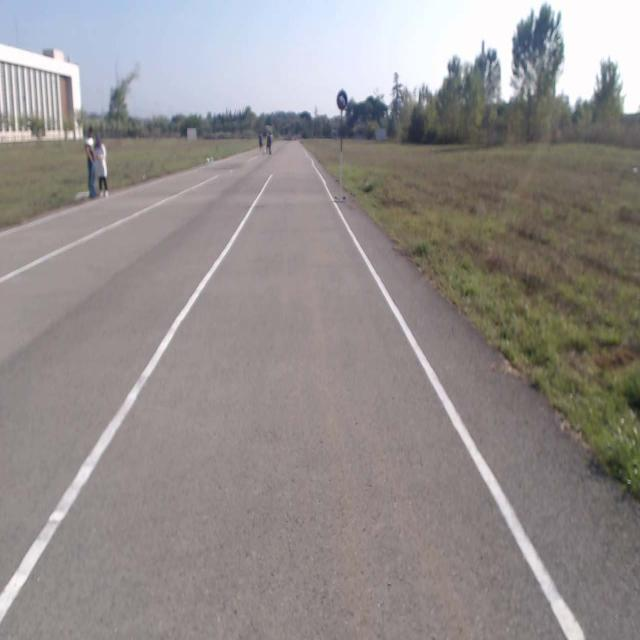sol: (338, 91, 348, 112)
